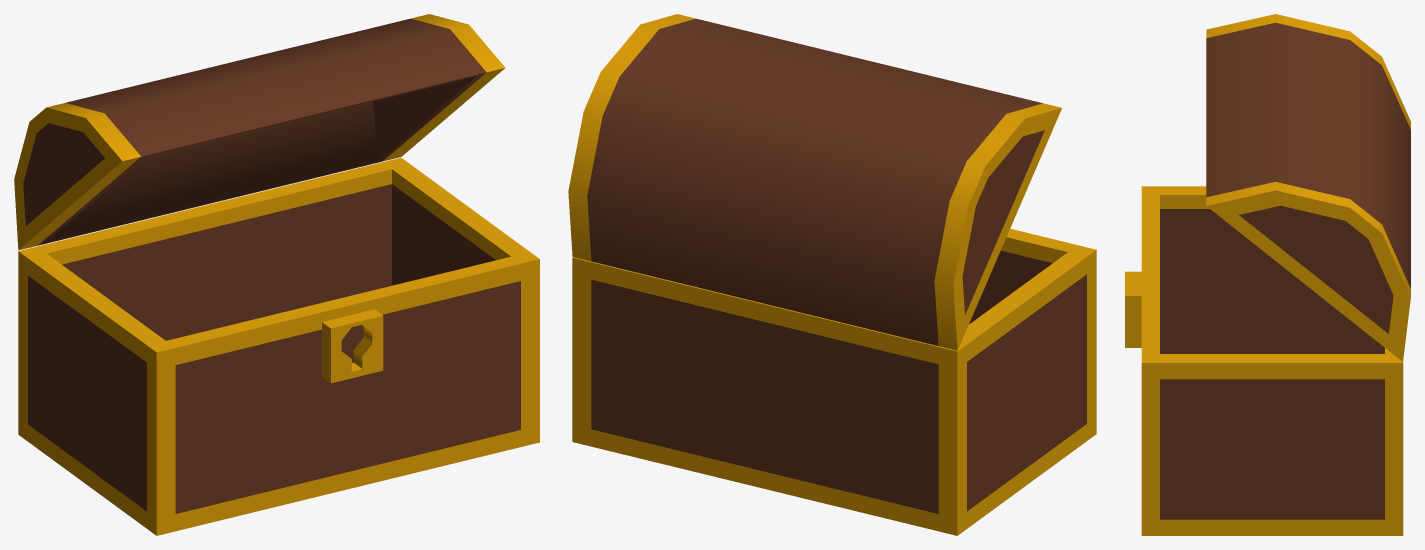
The model's file is TreasureChest.fbx.
3 views of the same model, side by side, from view 1: azimuth 30°, elevation 25°; view 2: azimuth 150°, elevation 25°; view 3: azimuth 270°, elevation 25° (orthographic). The views are drawn at different scales.
Parts seen in each view (by area): view 1: Base, Lid, Lock; view 2: Lid, Base; view 3: Base, Lid, Lock.
Boxes of the visible parts, left/top/right/bottom form: Base: left=18, top=157, right=539, bottom=535; Lid: left=14, top=14, right=505, bottom=250; Lock: left=322, top=309, right=383, bottom=383; Lid: left=568, top=14, right=1061, bottom=350; Base: left=572, top=228, right=1096, bottom=535; Base: left=1141, top=186, right=1403, bottom=535; Lid: left=1206, top=14, right=1410, bottom=361; Lock: left=1125, top=271, right=1141, bottom=347.
Size of the model in its own units: 319 by 291 by 218.
